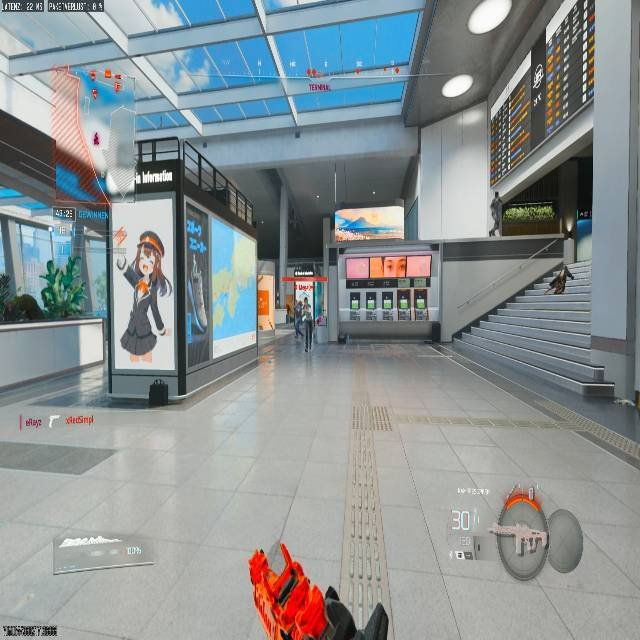head: (137, 231, 162, 261), (292, 293, 305, 308), (301, 295, 309, 304)
player: (117, 231, 170, 358), (285, 296, 313, 355), (294, 296, 312, 338)
